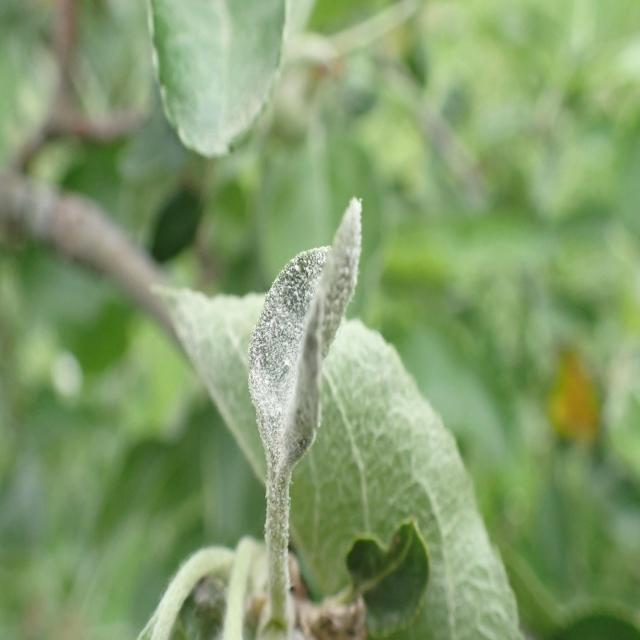Powdery_mildew: (143, 230, 536, 640), (220, 180, 374, 632)
